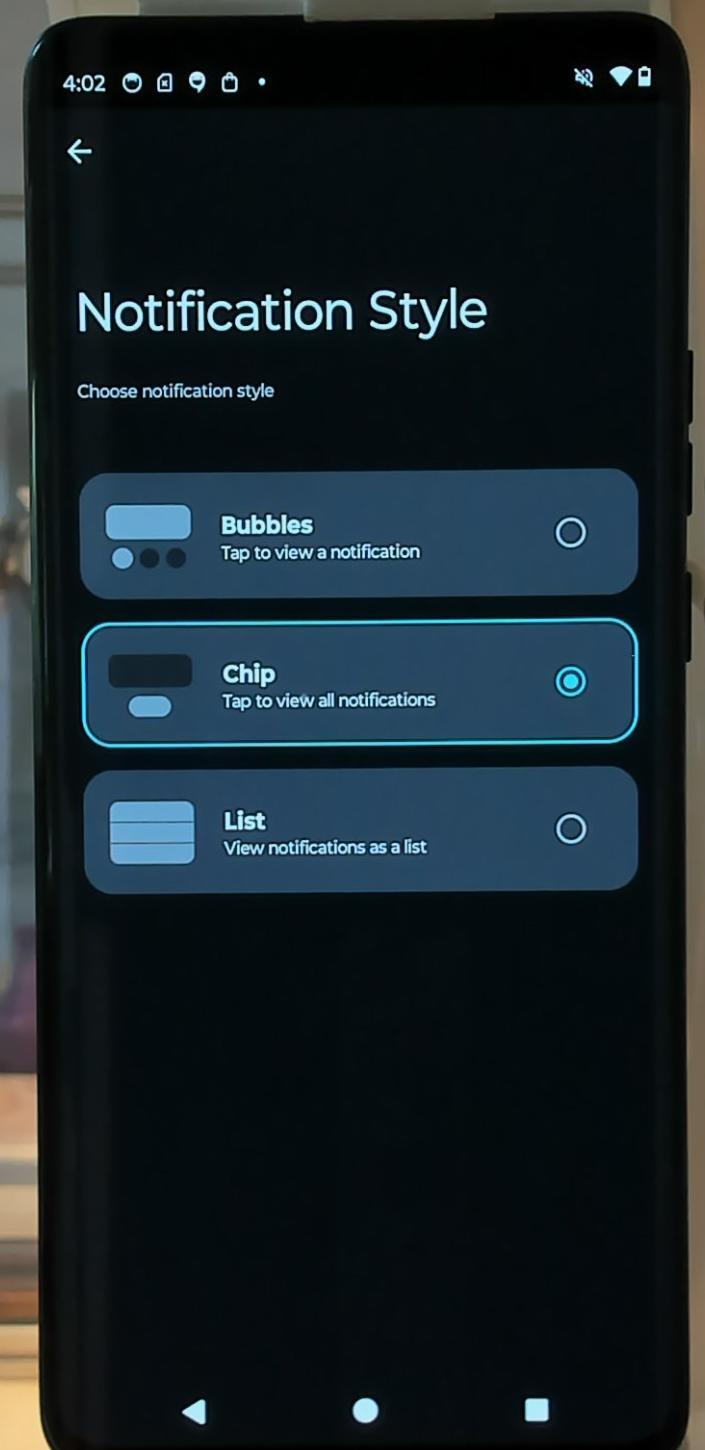RadioButton: (93, 778, 614, 870), (93, 488, 597, 577), (105, 635, 594, 721)
